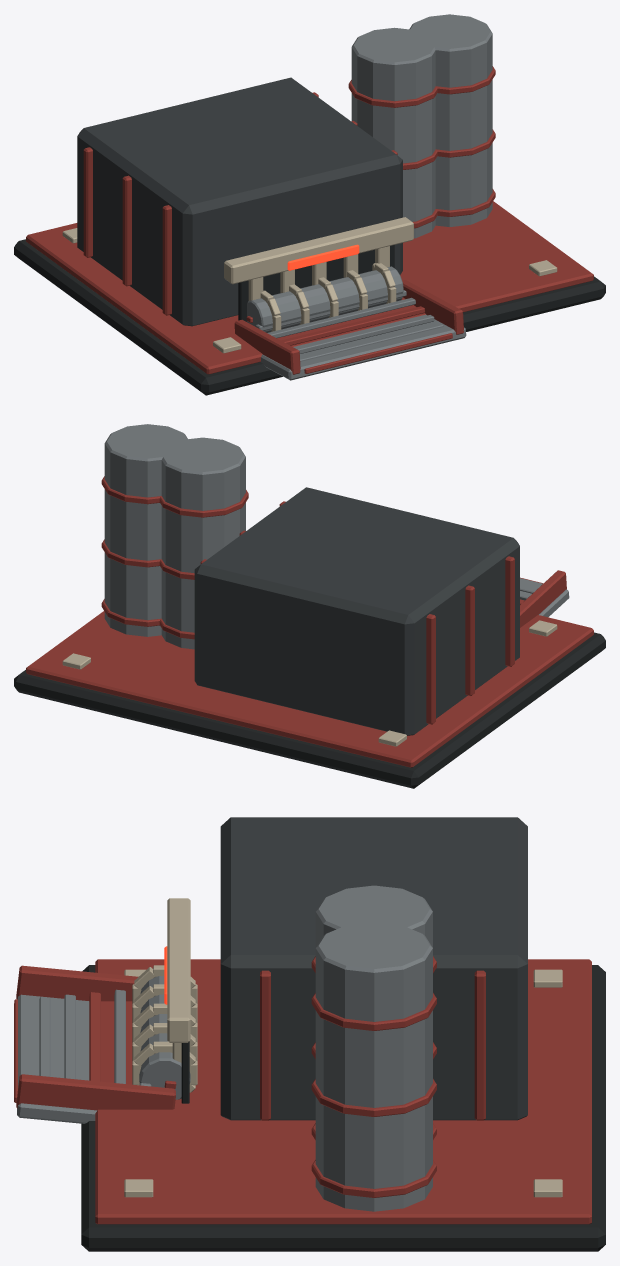
Rendered from ff_en_ref_01_v1.glb.
3 views of the same model, one above another, from view 1: azimuth 30°, elevation 25°; view 2: azimuth 150°, elevation 25°; view 3: azimuth 270°, elevation 25° (orthographic). The views are drawn at different scales.
Parts seen in each view (by area): view 1: FF_EN_REF_01_M_EnemyObsidianArmor_runtime, FF_EN_REF_01_M_EnemyCrimsonArmor_runtime, FF_EN_REF_01_M_EnemyGunmetal_runtime, FF_EN_REF_01_M_EnemyRecess_runtime, FF_EN_REF_01_M_EnemyMarking_runtime, intake_collector_M_EnemyGunmetal_runtime, intake_conveyor_M_EnemyGunmetal_runtime, intake_conveyor_M_EnemyCrimsonArmor_runtime, intake_collector_M_EnemyMarking_runtime, intake_gate_M_EnemyRecess_runtime, intake_gate_M_EnemyMarking_runtime, FF_EN_REF_01_M_EnemySignal_runtime; view 2: FF_EN_REF_01_M_EnemyObsidianArmor_runtime, FF_EN_REF_01_M_EnemyCrimsonArmor_runtime, FF_EN_REF_01_M_EnemyGunmetal_runtime, FF_EN_REF_01_M_EnemyRecess_runtime, FF_EN_REF_01_M_EnemyMarking_runtime; view 3: FF_EN_REF_01_M_EnemyCrimsonArmor_runtime, FF_EN_REF_01_M_EnemyObsidianArmor_runtime, FF_EN_REF_01_M_EnemyGunmetal_runtime, FF_EN_REF_01_M_EnemyRecess_runtime, FF_EN_REF_01_M_EnemyMarking_runtime, intake_collector_M_EnemyMarking_runtime, intake_conveyor_M_EnemyGunmetal_runtime, intake_collector_M_EnemyGunmetal_runtime, intake_conveyor_M_EnemyCrimsonArmor_runtime.
Boxes of the visible parts, left/top/right/bottom form: FF_EN_REF_01_M_EnemyObsidianArmor_runtime: left=77, top=77, right=402, bottom=326; FF_EN_REF_01_M_EnemyCrimsonArmor_runtime: left=26, top=66, right=593, bottom=374; FF_EN_REF_01_M_EnemyGunmetal_runtime: left=261, top=14, right=492, bottom=380; FF_EN_REF_01_M_EnemyRecess_runtime: left=14, top=239, right=605, bottom=395; FF_EN_REF_01_M_EnemyMarking_runtime: left=62, top=217, right=557, bottom=353; intake_collector_M_EnemyGunmetal_runtime: left=247, top=266, right=403, bottom=332; intake_conveyor_M_EnemyGunmetal_runtime: left=256, top=290, right=443, bottom=361; intake_conveyor_M_EnemyCrimsonArmor_runtime: left=246, top=306, right=452, bottom=373; intake_collector_M_EnemyMarking_runtime: left=260, top=263, right=396, bottom=331; intake_gate_M_EnemyRecess_runtime: left=238, top=245, right=394, bottom=321; intake_gate_M_EnemyMarking_runtime: left=248, top=246, right=389, bottom=300; FF_EN_REF_01_M_EnemySignal_runtime: left=287, top=244, right=359, bottom=270; FF_EN_REF_01_M_EnemyObsidianArmor_runtime: left=194, top=487, right=519, bottom=735; FF_EN_REF_01_M_EnemyCrimsonArmor_runtime: left=26, top=476, right=593, bottom=767; FF_EN_REF_01_M_EnemyGunmetal_runtime: left=104, top=424, right=569, bottom=649; FF_EN_REF_01_M_EnemyRecess_runtime: left=14, top=632, right=605, bottom=788; FF_EN_REF_01_M_EnemyMarking_runtime: left=62, top=620, right=557, bottom=746; FF_EN_REF_01_M_EnemyCrimsonArmor_runtime: left=16, top=956, right=591, bottom=1224; FF_EN_REF_01_M_EnemyObsidianArmor_runtime: left=220, top=817, right=527, bottom=1120; FF_EN_REF_01_M_EnemyGunmetal_runtime: left=17, top=885, right=432, bottom=1211; FF_EN_REF_01_M_EnemyRecess_runtime: left=81, top=965, right=605, bottom=1251; FF_EN_REF_01_M_EnemyMarking_runtime: left=124, top=898, right=562, bottom=1197; intake_collector_M_EnemyMarking_runtime: left=132, top=965, right=197, bottom=1092; intake_conveyor_M_EnemyGunmetal_runtime: left=39, top=989, right=151, bottom=1086; intake_collector_M_EnemyGunmetal_runtime: left=139, top=968, right=190, bottom=1099; intake_conveyor_M_EnemyCrimsonArmor_runtime: left=14, top=992, right=176, bottom=1102.
Size of the model in its own units: 11.4 by 5.44 by 10.6.
